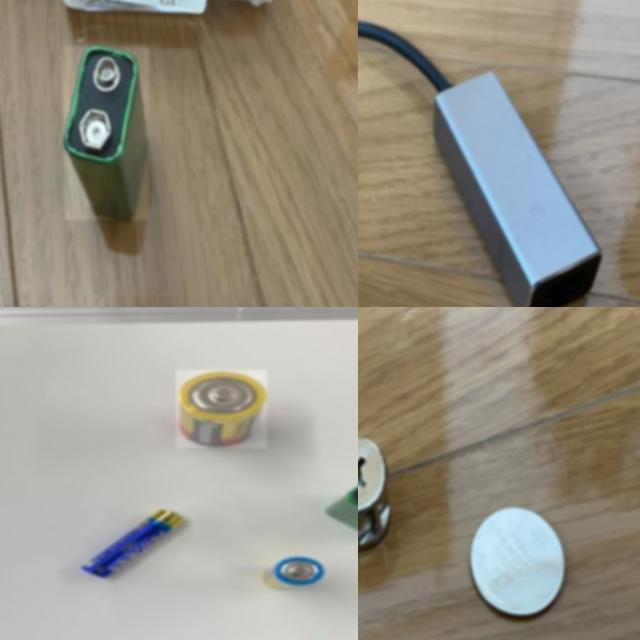9V: (64, 46, 149, 220), (319, 476, 358, 540)
